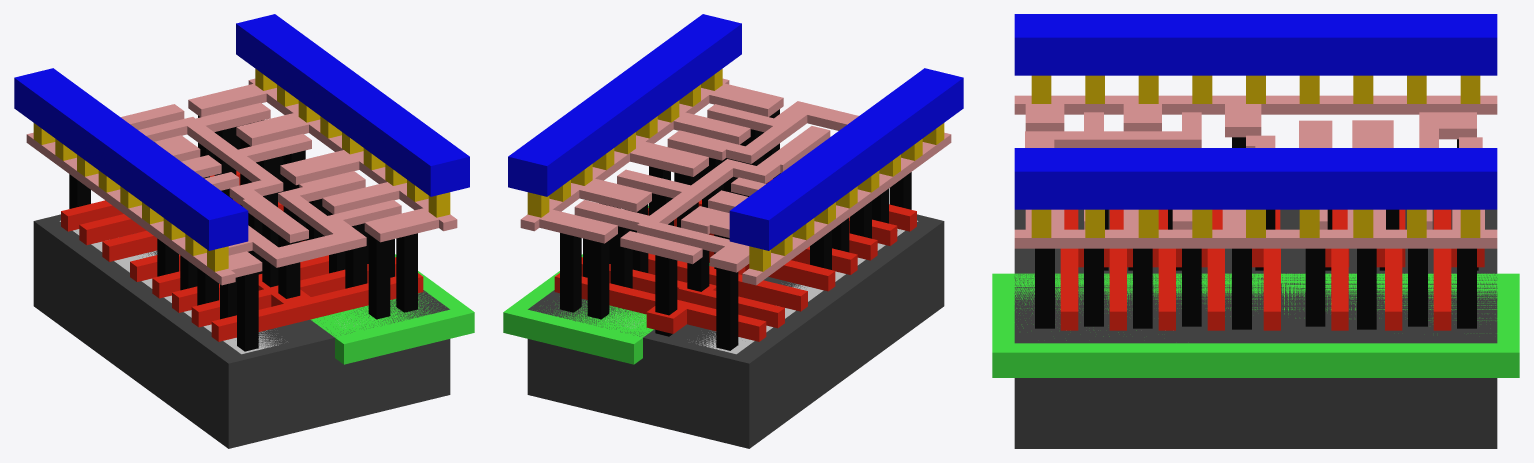
The model's file is sky130_fd_sc_hd__and4_4.obj.
3 views of the same model, side by side, from view 1: azimuth 30°, elevation 25°; view 2: azimuth 150°, elevation 25°; view 3: azimuth 270°, elevation 25° (orthographic). The views are drawn at different scales.
Parts seen in each view (by area): view 1: subs, metal1, li, licon, poly, nwell, mcon, diff; view 2: subs, metal1, li, licon, poly, nwell, mcon, diff; view 3: metal1, subs, li, nwell, poly, licon, mcon.
Part boxes in pixels (<box>): subs: <box>33,214,450,448</box>; metal1: <box>14,14,469,250</box>; li: <box>26,78,457,285</box>; licon: <box>69,115,417,351</box>; poly: <box>61,171,423,341</box>; nwell: <box>310,254,474,364</box>; mcon: <box>33,68,450,271</box>; diff: <box>59,220,287,354</box>; subs: <box>527,214,944,448</box>; metal1: <box>508,14,963,250</box>; li: <box>520,78,951,285</box>; licon: <box>560,109,911,350</box>; poly: <box>554,179,916,341</box>; nwell: <box>503,206,709,364</box>; mcon: <box>527,68,944,271</box>; diff: <box>696,220,918,354</box>; metal1: <box>1014,14,1497,209</box>; subs: <box>1014,209,1497,448</box>; li: <box>1014,95,1497,248</box>; nwell: <box>992,273,1519,377</box>; poly: <box>1060,209,1484,330</box>; licon: <box>1035,137,1478,329</box>; mcon: <box>1031,75,1480,237</box>.
Bounding box in the file's own units: 3.2 × 2.74 × 4.52.
